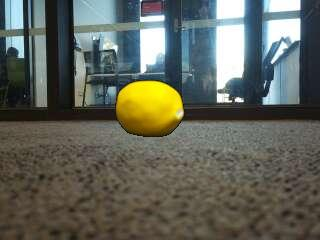lemon: (117, 82, 185, 137)
